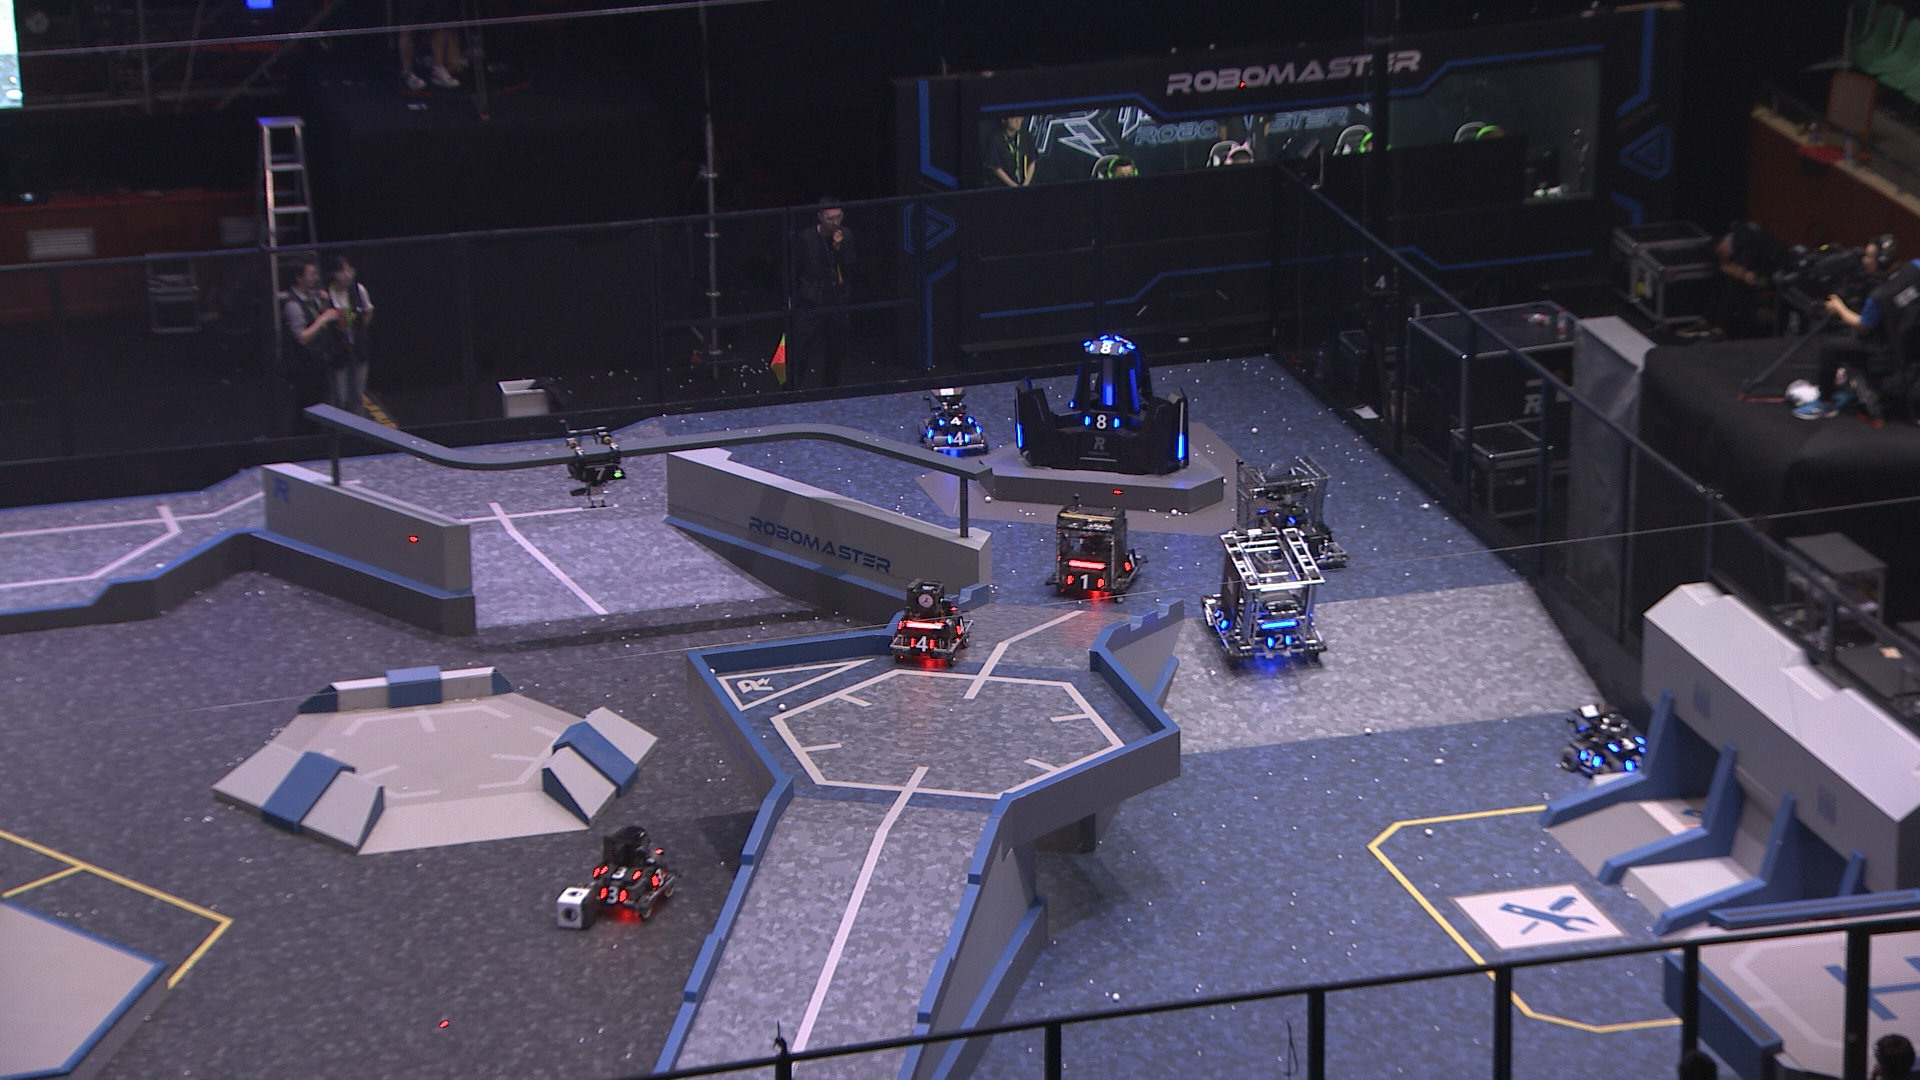armor: (1064, 568, 1102, 591), (583, 462, 622, 483), (905, 632, 939, 655), (1575, 746, 1604, 774), (596, 884, 629, 907), (1081, 411, 1121, 431), (599, 861, 640, 880), (1265, 629, 1296, 651), (1607, 733, 1646, 752), (1623, 752, 1652, 775), (1127, 368, 1143, 410), (938, 414, 973, 433), (1091, 339, 1126, 357), (650, 862, 673, 887), (945, 429, 971, 448), (1212, 608, 1232, 632), (1121, 547, 1139, 572), (949, 613, 968, 637), (918, 418, 938, 439), (1176, 434, 1189, 462), (1098, 382, 1114, 405), (1015, 425, 1025, 451)
base: (1011, 328, 1195, 473)
car: (1201, 526, 1328, 669), (1233, 455, 1344, 571), (1040, 498, 1145, 603), (584, 823, 680, 922), (1561, 700, 1662, 785), (885, 579, 977, 666), (913, 381, 992, 460)
watcher: (560, 425, 626, 510)
